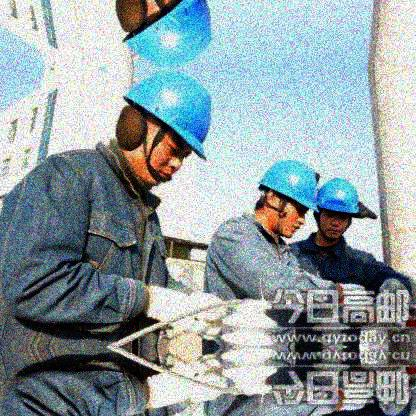helmet: (119, 70, 212, 189), (253, 159, 320, 240), (316, 177, 362, 239)
